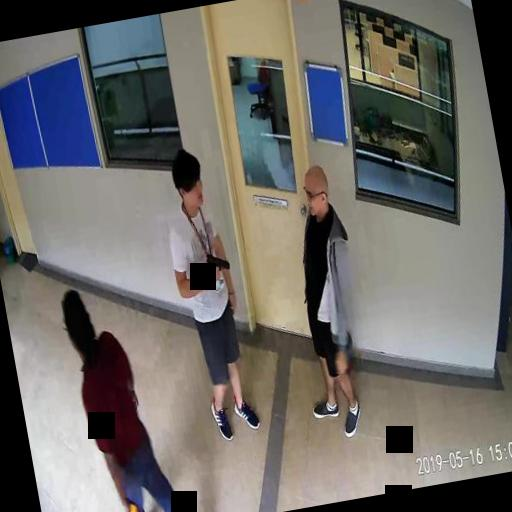Handgun: (202, 248, 230, 280)
